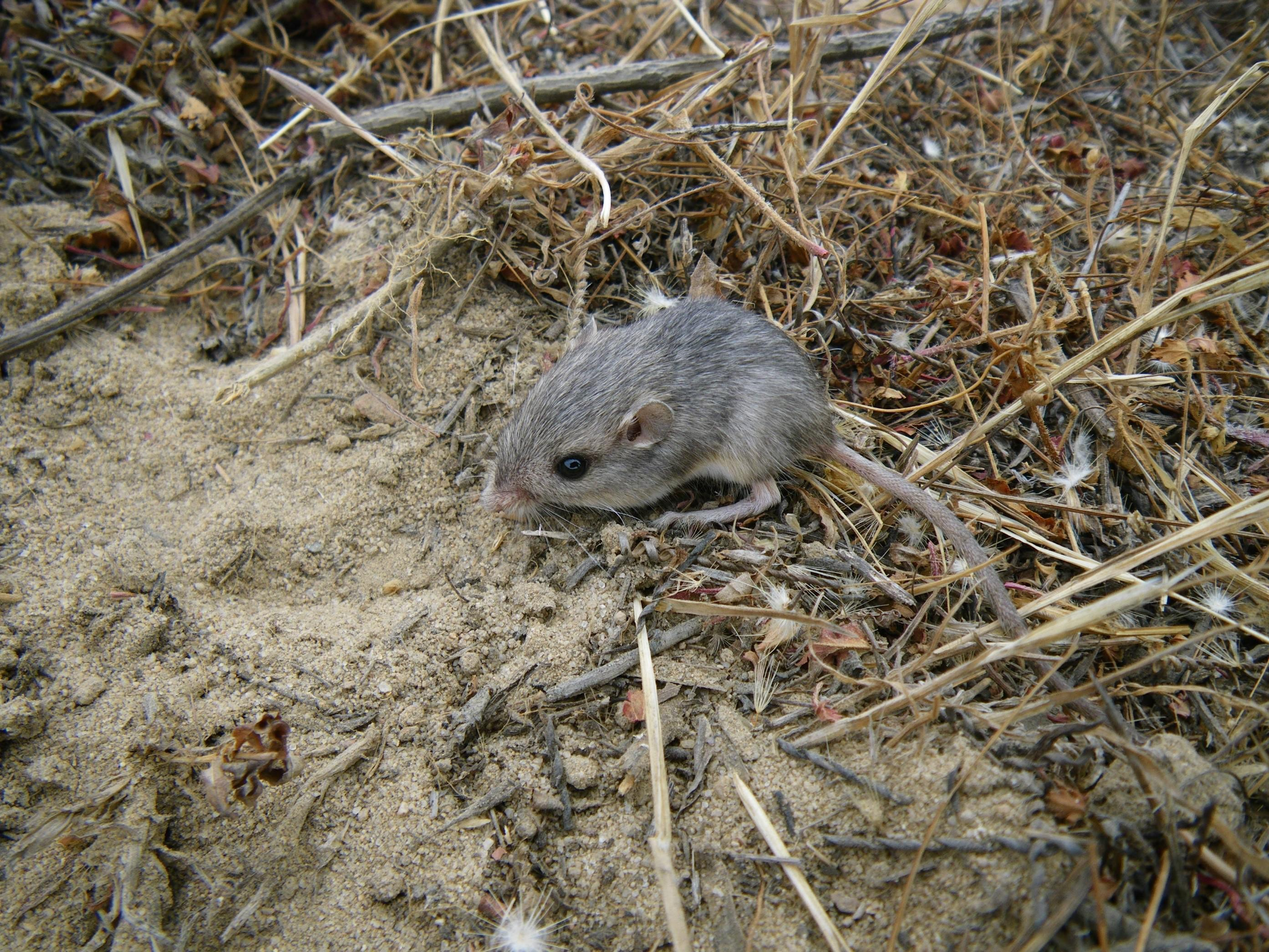rat: (489, 303, 1020, 623)
